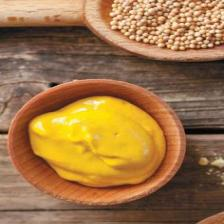yellow: (28, 96, 166, 187)
